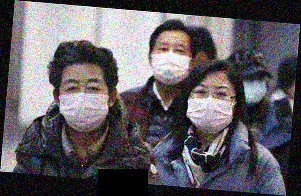with_mask: (55, 75, 111, 131), (187, 81, 235, 135), (150, 40, 192, 88), (241, 75, 268, 108)
